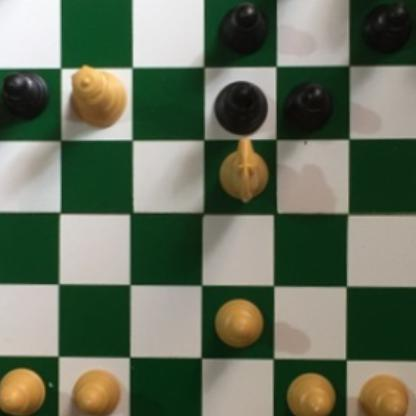black-bishop: (212, 78, 269, 141)
black-pawn: (357, 0, 414, 56), (217, 0, 269, 59), (281, 79, 335, 135), (0, 71, 50, 122)
white-knight: (214, 129, 268, 199)
white-pawn: (209, 294, 268, 354), (285, 362, 341, 416), (66, 367, 123, 416), (0, 364, 50, 416), (356, 372, 411, 416)
white-queen: (68, 63, 128, 128)
